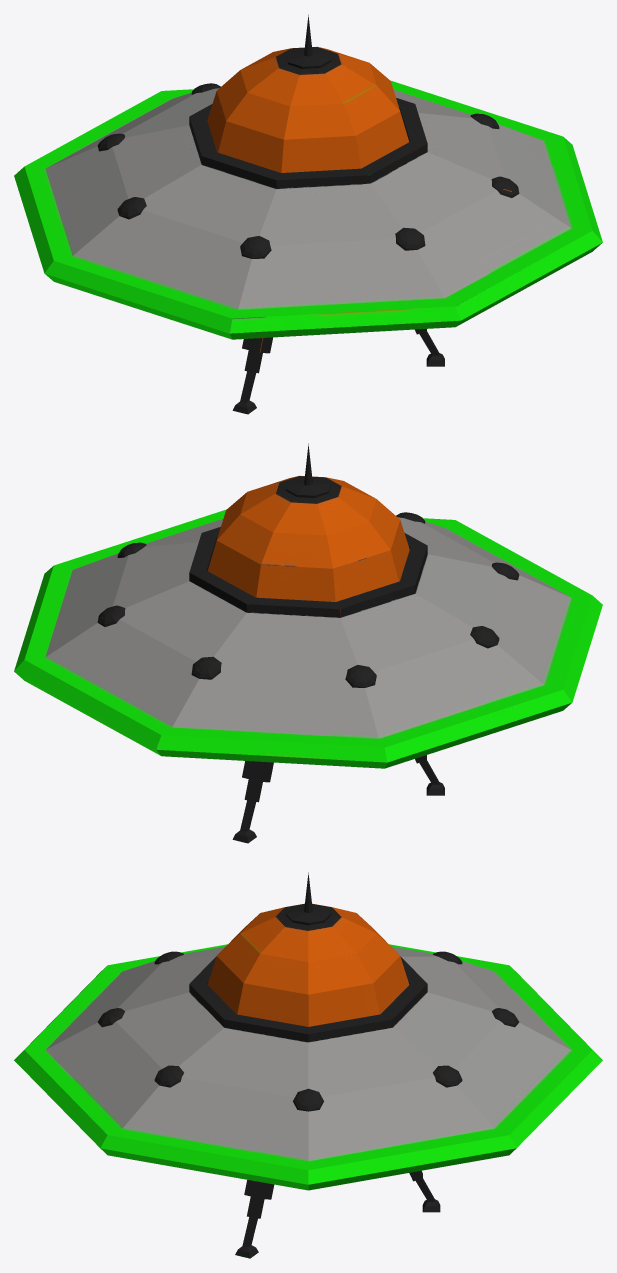
The model's file is flying sacuer.obj.
The picture shows the model from 3 angles, top to bottom: view 1: azimuth 30°, elevation 25°; view 2: azimuth 150°, elevation 25°; view 3: azimuth 270°, elevation 25°; orthographic projection. The views are drawn at different scales.
Visible parts, largest first — view 1: flying_sacuer; view 2: flying_sacuer; view 3: flying_sacuer.
Part boxes in pixels (x1,y1,x2,y2): flying_sacuer: (14, 14, 602, 414); flying_sacuer: (14, 443, 602, 843); flying_sacuer: (14, 872, 602, 1258).
Size of the model in its own units: 6.21 by 3.91 by 6.21.
1 material, 1 textured.
